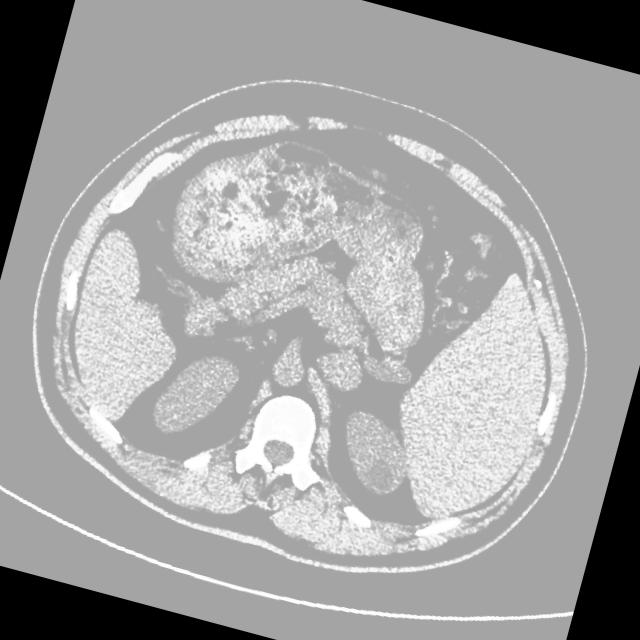cysts: (0, 37, 635, 616)
